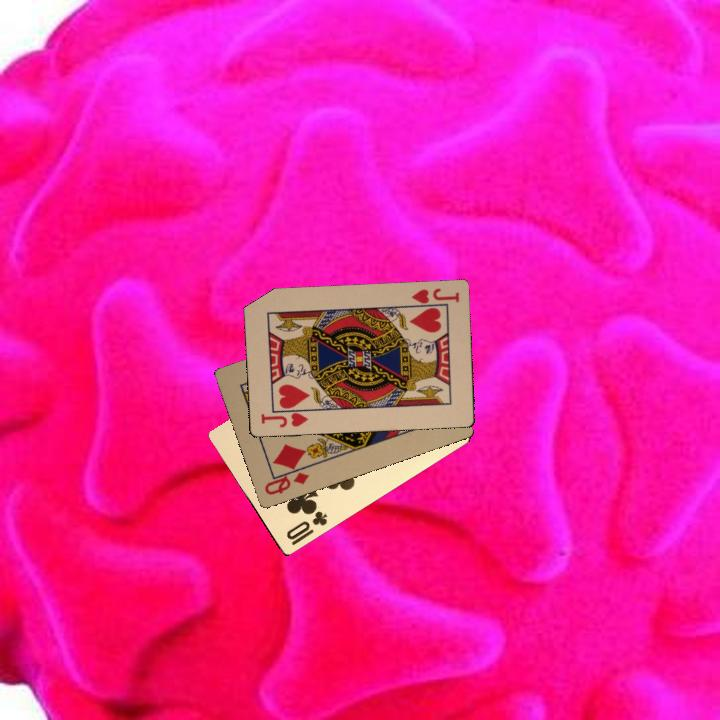10c: (282, 507, 330, 548)
Jh: (406, 284, 462, 310), (257, 405, 310, 430)
Qd: (259, 461, 312, 498)
